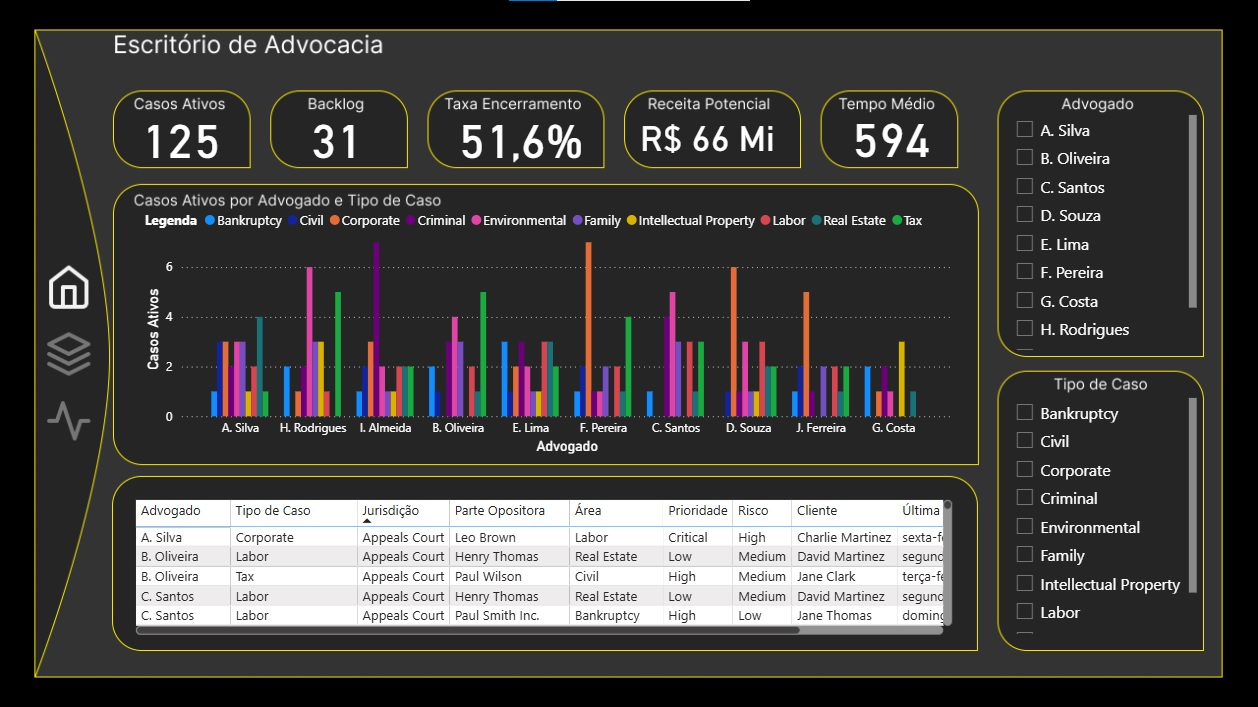

The dashboard page shown, as its layout file describes it:
{"tool":"powerbi","page":{"name":"Indicadores","canvas":[1280,720],"ordinal":0},"visuals":[{"type":"card","fields":{"Values":["Medidas.taxa_de_encerramento"]},"box":[446.5,91.6,165.8,93.1],"z":0},{"type":"card","fields":{"Values":["Medidas.Receita Potencial"]},"box":[626.9,93.1,186.2,88.7],"z":1000},{"type":"card","fields":{"Values":["Medidas.tempo_medio_de_duracao"]},"box":[829.1,85.8,154.2,103.3],"z":2000},{"type":"card","fields":{"Values":["Medidas.backlog_casos"]},"box":[280.7,85.8,123.6,104.7],"z":3000},{"type":"tableEx","fields":{"Values":["DimAdvogado.Lawyer_Name","DimCaso.Case_Type","DimCaso.Jurisdiction","DimCaso.Opposing_Party","DimCaso.Practice_Area","DimCaso.Priority","DimCaso.Risk_Level","DimCliente.Client_Name","FatoCasos.Last_Updated"]},"box":[132.4,503.3,840.7,146.9],"z":4000},{"type":"card","fields":{"Values":["Medidas.casos_ativos"]},"box":[109.1,97.5,151.3,81.5],"z":5000},{"type":"slicer","fields":{"Values":["DimAdvogado.Lawyer_Name"]},"box":[1021.1,112,200.7,248.7],"z":6000},{"type":"clusteredColumnChart","fields":{"Category":["DimAdvogado.Lawyer_Name"],"Y":["Medidas.casos_ativos"],"Series":["DimCaso.Case_Type"]},"box":[142.5,203.6,830.5,263.3],"z":7000},{"type":"slicer","fields":{"Values":["DimCaso.Case_Type"]},"box":[1021.1,400,200.7,250.2],"z":8000},{"type":"actionButton","box":[45.9,335.1,48.6,54.1],"z":8001},{"type":"actionButton","box":[45.9,400,48.6,54.1],"z":8002}]}

Visuals, with their boxes in screenshot pixels (x1, y1, x2, y2), scaled from the page's 1280x720 canvas onto the 1258x707 screenshot:
card - Medidas.taxa_de_encerramento: l=439, t=90, r=602, b=181
card - Medidas.Receita Potencial: l=616, t=91, r=799, b=179
card - Medidas.tempo_medio_de_duracao: l=815, t=84, r=966, b=186
card - Medidas.backlog_casos: l=276, t=84, r=397, b=187
tableEx - DimAdvogado.Lawyer_Name x DimCaso.Case_Type: l=130, t=494, r=956, b=638
card - Medidas.casos_ativos: l=107, t=96, r=256, b=176
slicer - DimAdvogado.Lawyer_Name: l=1004, t=110, r=1201, b=354
clusteredColumnChart - DimAdvogado.Lawyer_Name x Medidas.casos_ativos: l=140, t=200, r=956, b=458
slicer - DimCaso.Case_Type: l=1004, t=393, r=1201, b=638
actionButton: l=45, t=329, r=93, b=382
actionButton: l=45, t=393, r=93, b=446
